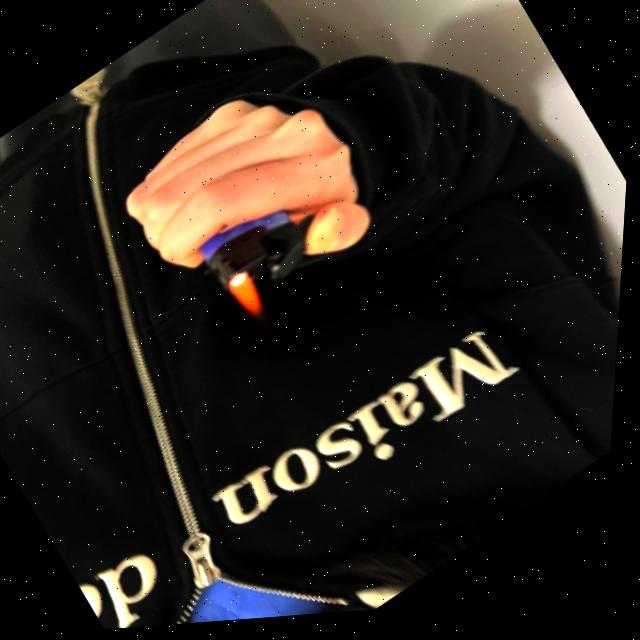Fire: (224, 269, 281, 335)
